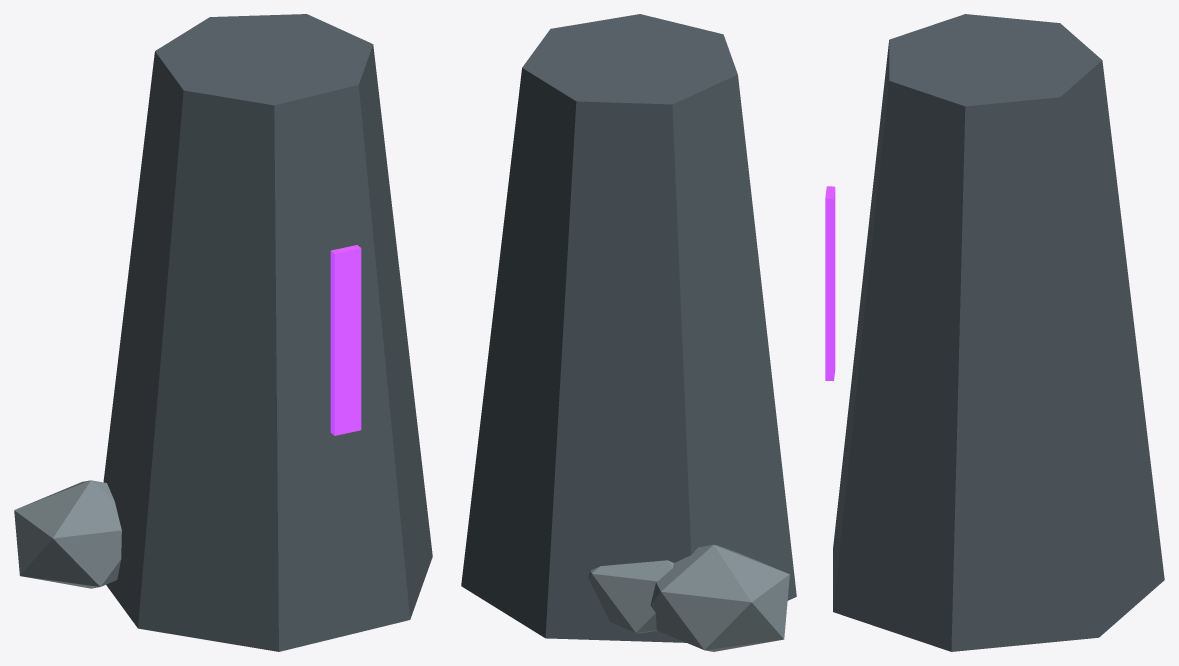
Rendered from standing_stone_d.glb.
The picture shows the model from 3 angles, left to right: view 1: azimuth 30°, elevation 25°; view 2: azimuth 150°, elevation 25°; view 3: azimuth 270°, elevation 25°; orthographic projection.
Parts seen in each view (by area): view 1: Monolith.003, Foot_Rock_2.003, Rune.003; view 2: Monolith.003, Foot_Rock_2.003, Foot_Rock_1.003; view 3: Monolith.003, Rune.003.
Boxes of the visible parts, <box> form: Monolith.003: <box>103,14,432,651</box>; Foot_Rock_2.003: <box>14,480,121,588</box>; Rune.003: <box>330,245,361,435</box>; Monolith.003: <box>461,14,796,642</box>; Foot_Rock_2.003: <box>650,544,789,651</box>; Foot_Rock_1.003: <box>588,560,673,633</box>; Monolith.003: <box>833,14,1164,651</box>; Rune.003: <box>825,186,835,380</box>.
Size of the model in its own units: 1.6 by 2.35 by 1.36.
